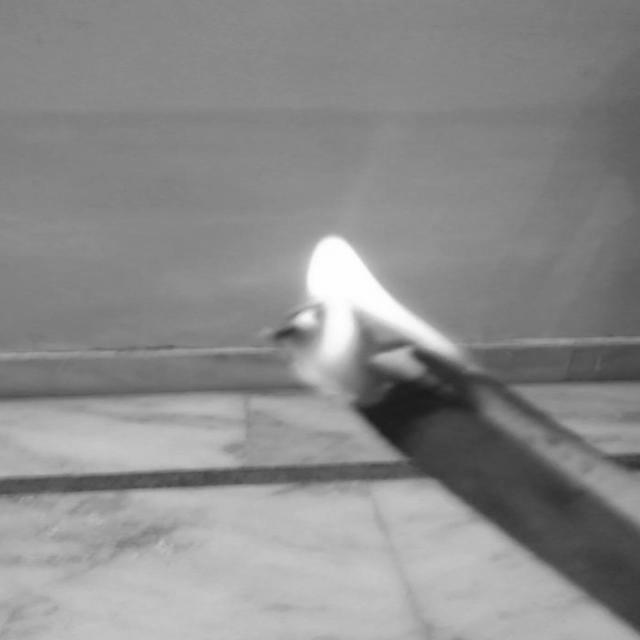smoke: (241, 225, 456, 404)
